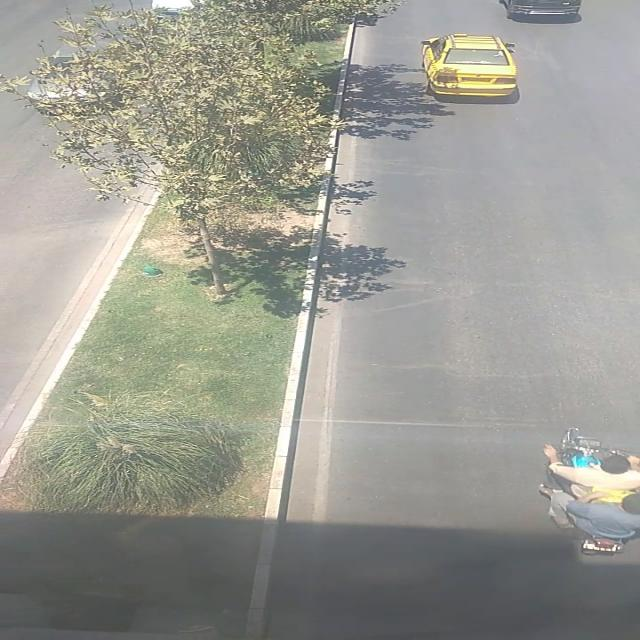car: (422, 34, 516, 98), (498, 1, 586, 22)
motor: (538, 424, 636, 580)
